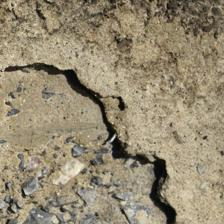Crack: (2, 31, 178, 192)
